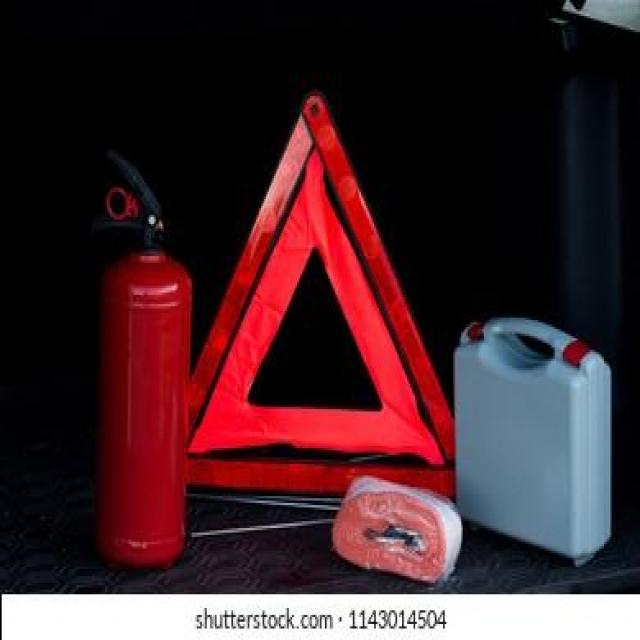fire_extinguisher: (85, 143, 192, 572)
